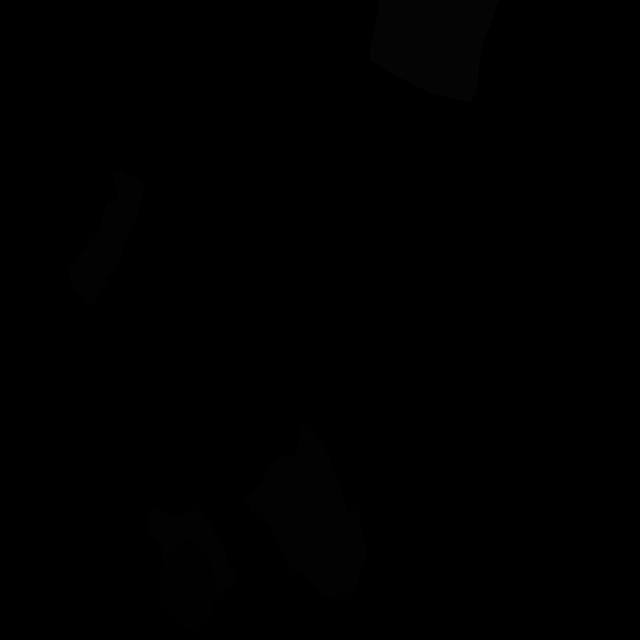cardboard: (240, 426, 367, 599), (69, 170, 144, 305), (146, 506, 236, 597)
rigid_plastic: (159, 540, 214, 632)
soft_plastic: (370, 0, 499, 102)
